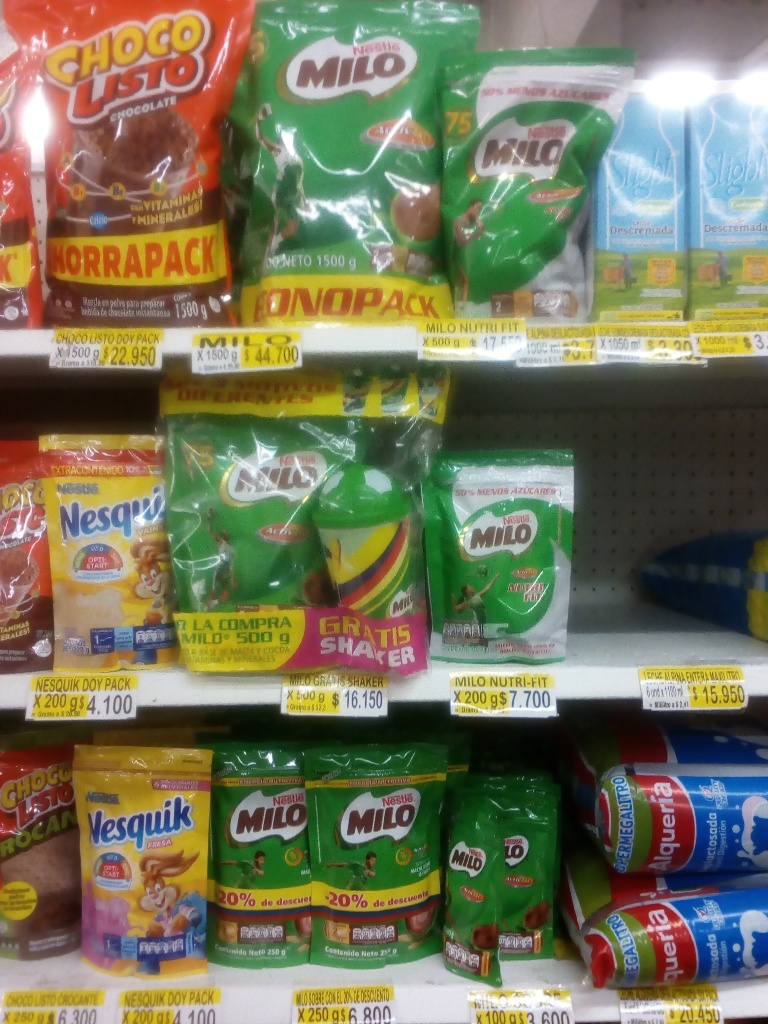COL0170102DYP25000: (1, 731, 92, 978)
COL0170103DYP1,500: (7, 1, 239, 326)
COL0170103DYP20000: (1, 437, 51, 672)
COL0170203DYP10000: (444, 785, 510, 982)
COL0170203DYP25000: (203, 741, 323, 970)
COL0170203DYP50000: (161, 372, 328, 612)
COL0170205DYP20000: (425, 457, 573, 669)
COL0170205DYP50000: (445, 50, 610, 319)
COL0170305DYP20000: (76, 743, 217, 975)
